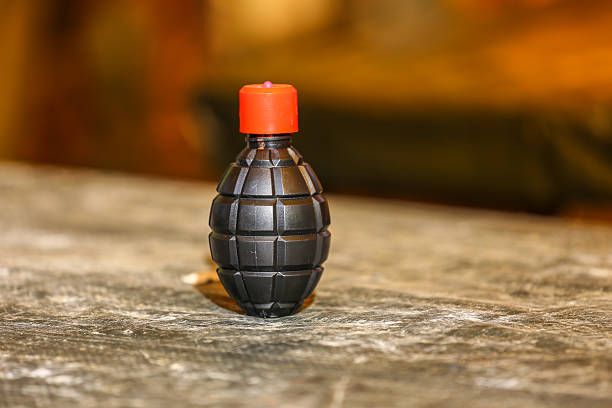e1: (206, 103, 342, 322)
